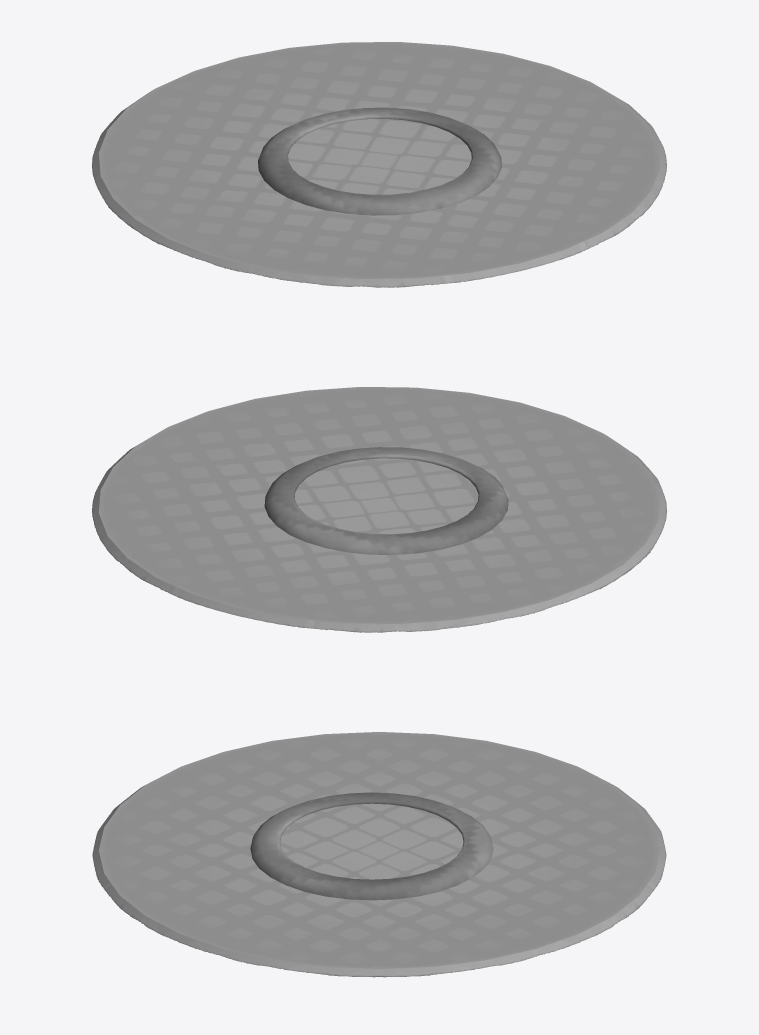
File: pref_TPC_v2_NeutralScoreArea03_clone_purple_static_lv3.fbx
The picture shows the model from 3 angles, top to bottom: view 1: azimuth 30°, elevation 25°; view 2: azimuth 150°, elevation 25°; view 3: azimuth 270°, elevation 25°; orthographic projection.
Parts seen in each view (by area): view 1: sm_prop_platform06a_lv3, sm_prop_platform06b_lv3; view 2: sm_prop_platform06a_lv3, sm_prop_platform06b_lv3; view 3: sm_prop_platform06a_lv3, sm_prop_platform06b_lv3.
Part boxes in pixels (x1,y1,x2,y2): sm_prop_platform06a_lv3: [92, 42, 666, 287]; sm_prop_platform06b_lv3: [258, 107, 501, 215]; sm_prop_platform06a_lv3: [92, 387, 666, 632]; sm_prop_platform06b_lv3: [264, 447, 508, 554]; sm_prop_platform06a_lv3: [92, 732, 666, 977]; sm_prop_platform06b_lv3: [250, 792, 493, 900].
Bounding box in the file's own units: 7.46 × 0.2873 × 7.46.
2 materials, 2 textured.
